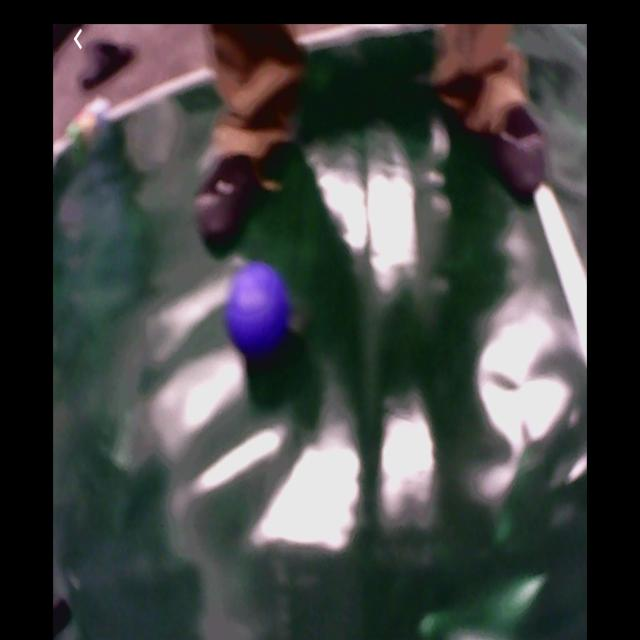ball: (227, 266, 289, 359)
